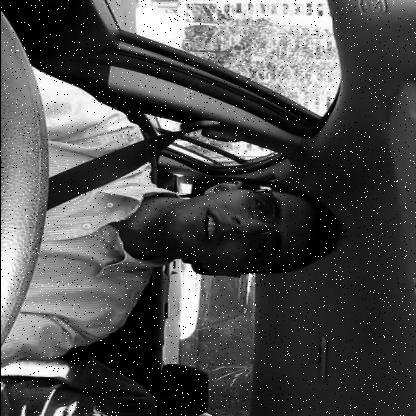seatbelt: (0, 102, 343, 282)
